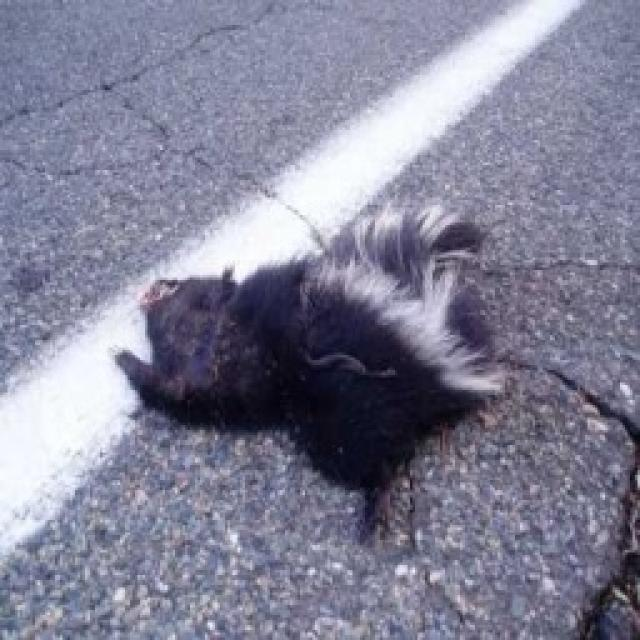not_pig: (110, 195, 508, 537)
